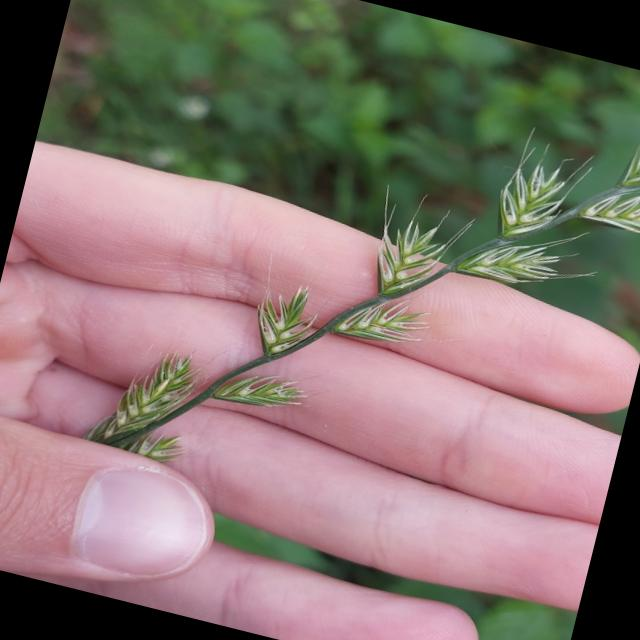Lolium: (76, 0, 640, 569)
